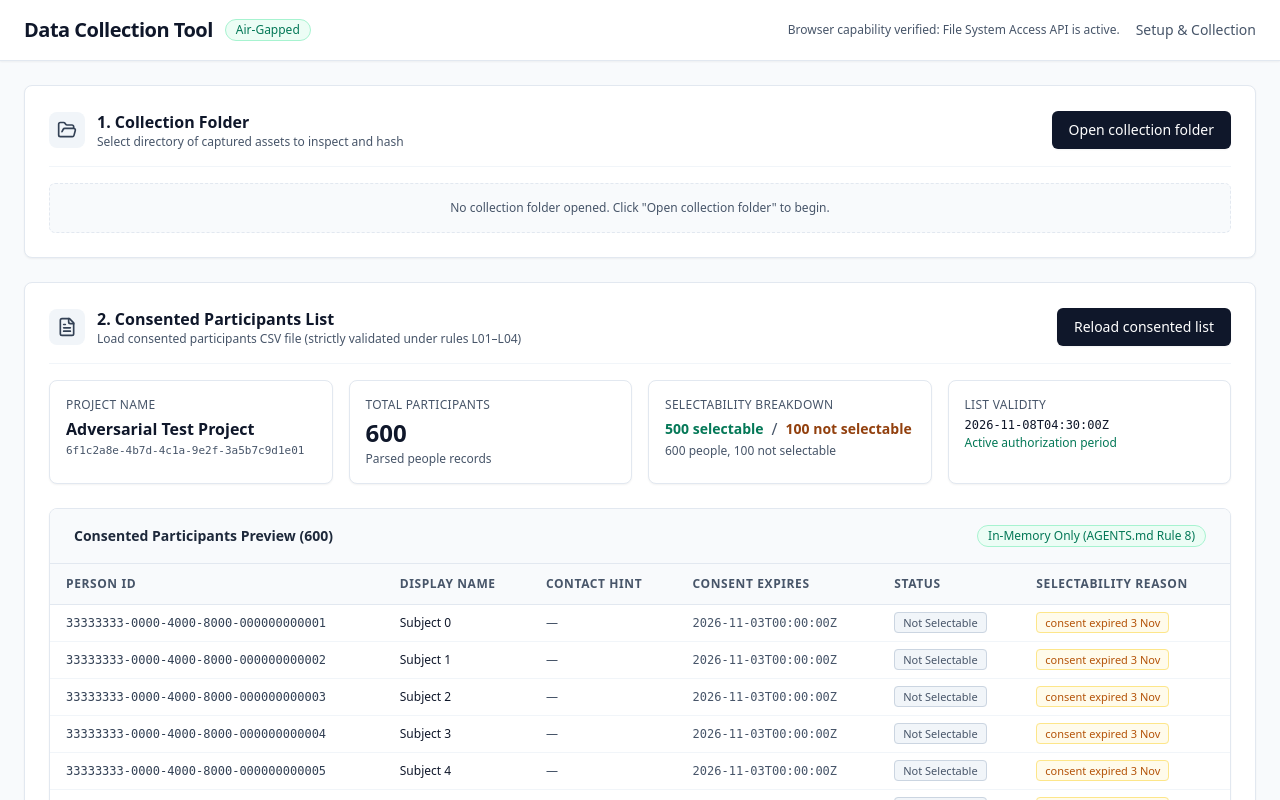
Adversarial Stress Harness: Milestone 4 Consented List Validation & Privacy › Challenge 2: Large consented list (>500 participants) rendering and selectability performance › 2.2: Reactive selectability recalculation across 600 participants when opening a collection folder
Earlier steps of the test are not shown.
Expected: the text with test id "total-people-count" reads "600", x1=366 y1=416 x2=407 y2=449
What coordinates should you click on to do the following:
click the button with test id "open-folder-button"
I would click on:
 (1141, 130)
Its box is x1=1052 y1=111 x2=1231 y2=149.
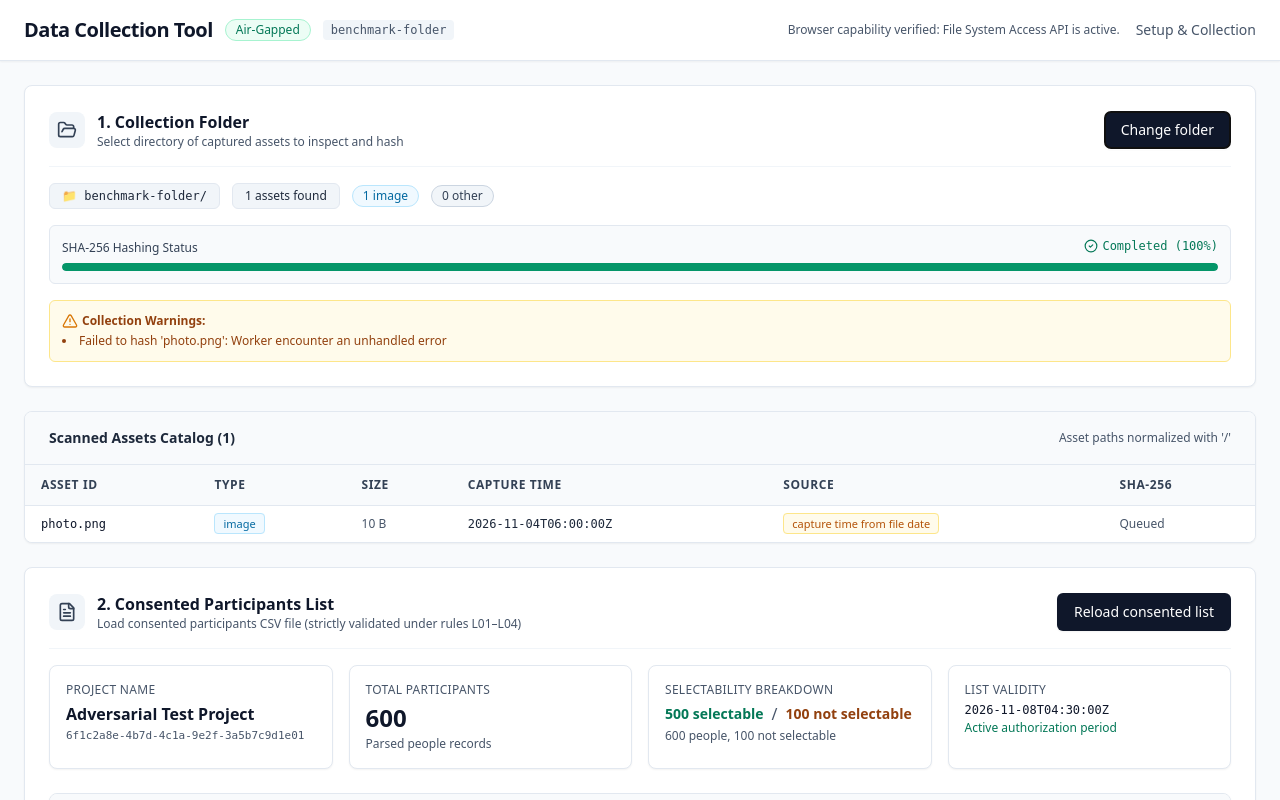
Expected: the element with test id "list-summary-counts" shows "600 people, 100 not selectable", x1=648 y1=665 x2=932 y2=769
Now the text with test id "folder-name" shows "benchmark-folder", box x1=84 y1=189 x2=200 y2=203
